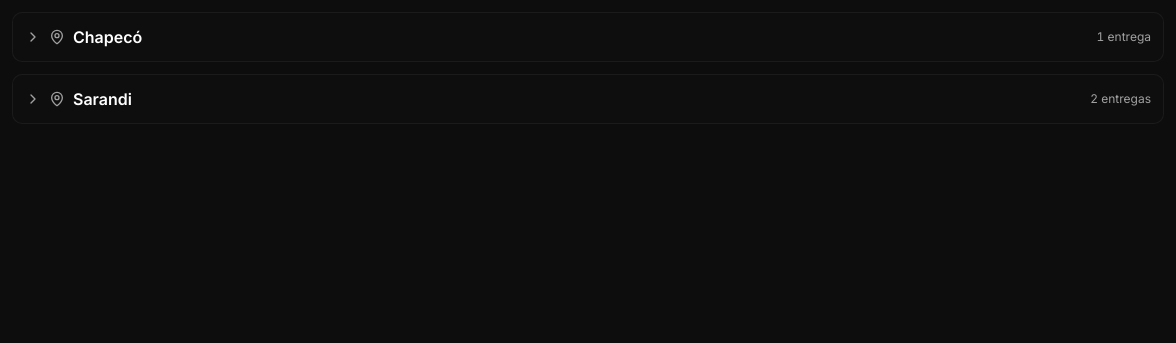
it: Cidade → tipos de entregáveis › reúne os formatos em cada cidade sem filtros no topo
Click the button "Sarandi 2 entregas" at (102, 99), box [12,74,1164,124]
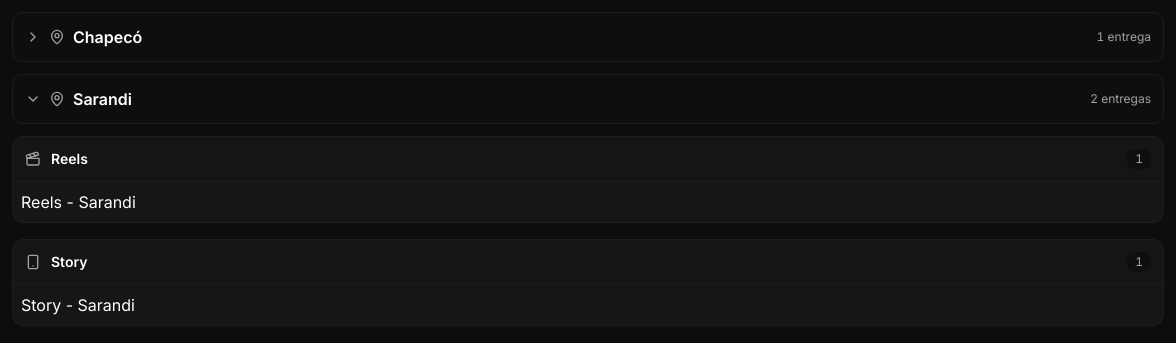
expect the element "Reels" is shown: met, box [12,136,1164,223]
expect the element "Story" is shown: met, box [12,239,1164,326]
expect the text "Reels - Sarandi" is shown once: met, box [21,192,136,212]
